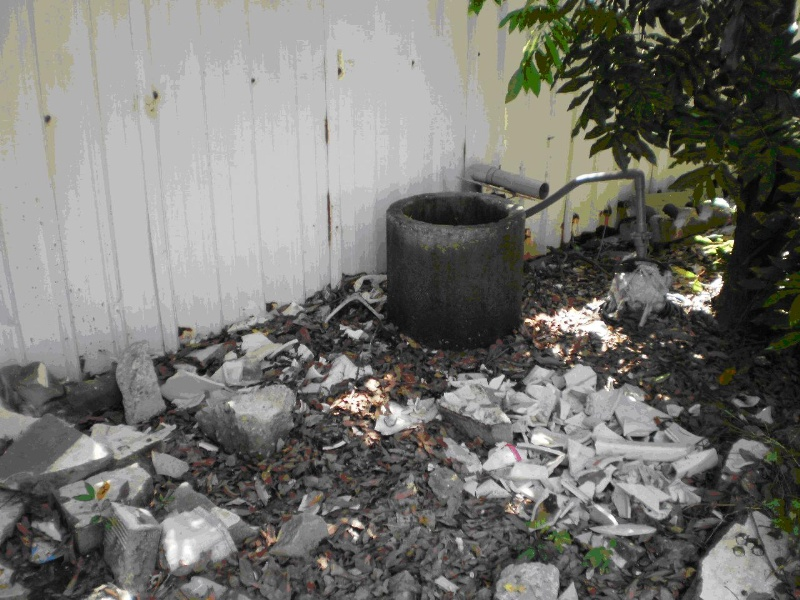bucket: (385, 196, 526, 348)
